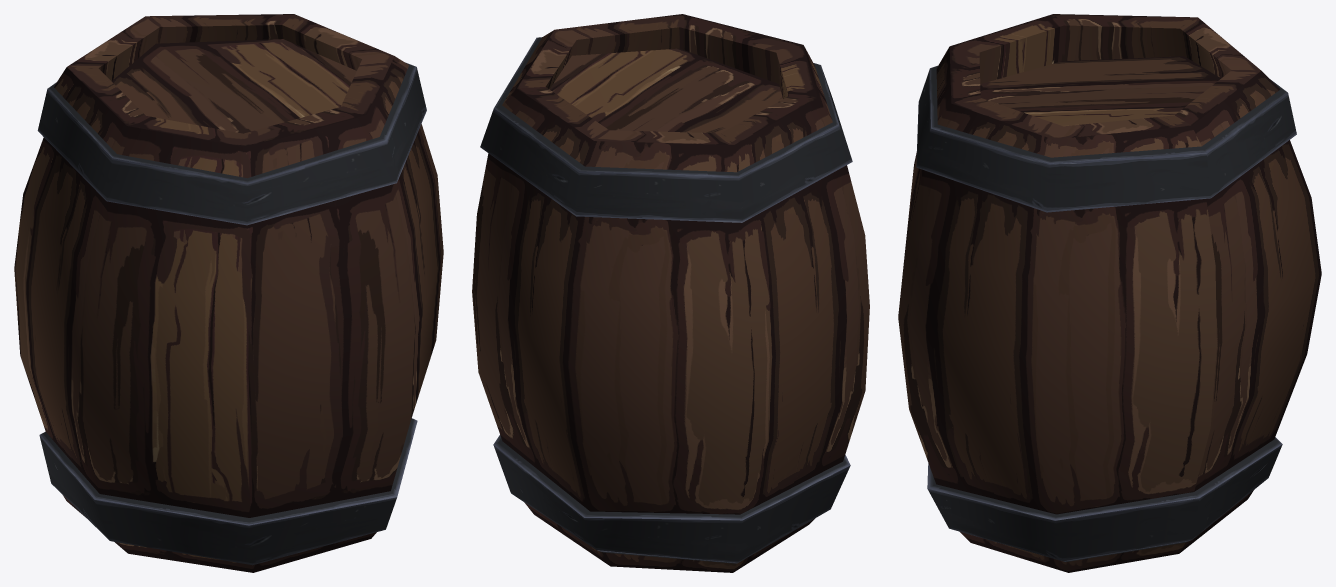
File: Barrel_Normal.gltf
3 renders of one model, left to right at view 1: azimuth 30°, elevation 25°; view 2: azimuth 150°, elevation 25°; view 3: azimuth 270°, elevation 25°, orthographic.
Parts seen in each view (by area): view 1: SM_PROP_barrel_dungeon_01; view 2: SM_PROP_barrel_dungeon_01; view 3: SM_PROP_barrel_dungeon_01.
Boxes of the visible parts, box(x1,y1,x2,y2) form: SM_PROP_barrel_dungeon_01: box(14, 14, 443, 572); SM_PROP_barrel_dungeon_01: box(472, 14, 869, 572); SM_PROP_barrel_dungeon_01: box(898, 14, 1321, 572).
Bounding box in the file's own units: 0.7277 × 0.8483 × 0.749.
1 material, 1 textured.
